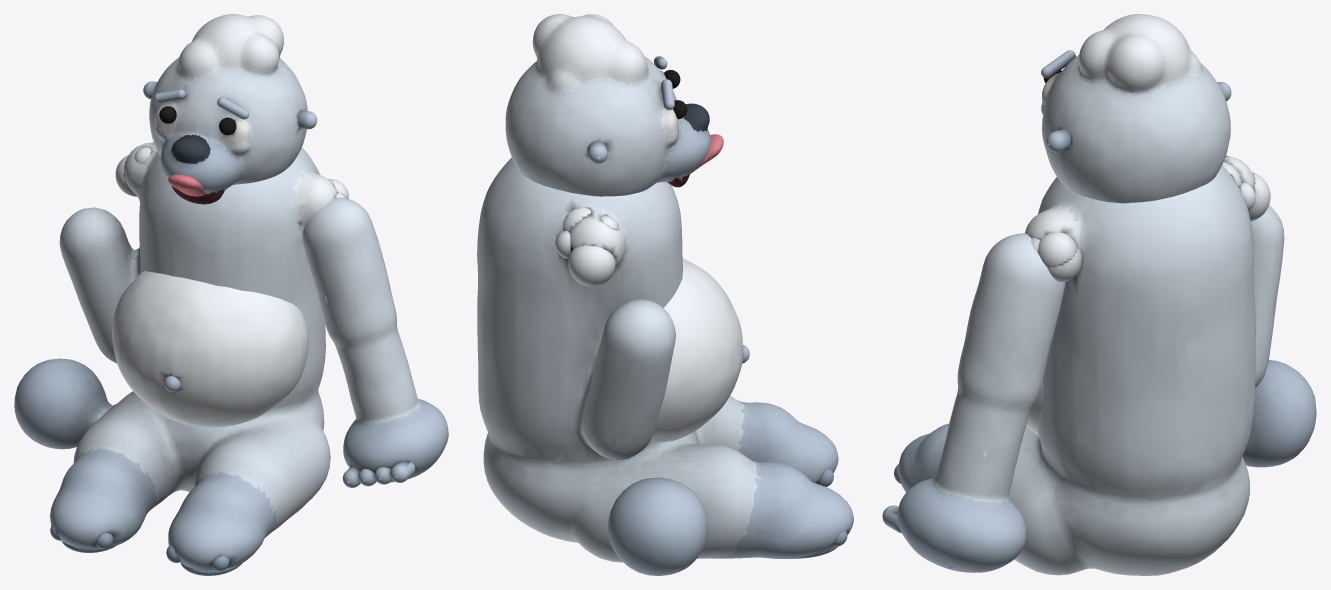
File: det-var-jattegott.glb
3 views of the same model, side by side, from view 1: azimuth 30°, elevation 25°; view 2: azimuth 150°, elevation 25°; view 3: azimuth 270°, elevation 25° (orthographic). The views are drawn at different scales.
Visible parts, largest first — view 1: yeti__r0, barriga__r0, cabeca__r0, pata__r0, lingua__r0; view 2: yeti__r0, cabeca__r0, barriga__r0, yeti__r5; view 3: yeti__r0, pata__r0, cabeca__r0, yeti__r11, yeti__r5, yeti__r13.
Part boxes in pixels (x1,y1,x2,y2): yeti__r0: [14, 142, 337, 570]; barriga__r0: [112, 271, 308, 427]; cabeca__r0: [149, 14, 307, 204]; pata__r0: [302, 197, 448, 482]; lingua__r0: [168, 174, 205, 196]; yeti__r0: [477, 157, 853, 575]; cabeca__r0: [505, 14, 710, 196]; barriga__r0: [649, 258, 742, 442]; yeti__r5: [568, 245, 615, 286]; yeti__r0: [898, 156, 1316, 575]; pata__r0: [897, 233, 1065, 572]; cabeca__r0: [1041, 14, 1230, 203]; yeti__r11: [1038, 232, 1077, 267]; yeti__r5: [1248, 172, 1270, 221]; yeti__r13: [1047, 247, 1082, 282].
Bounding box in the file's own units: 2.2 × 2.82 × 2.03.
